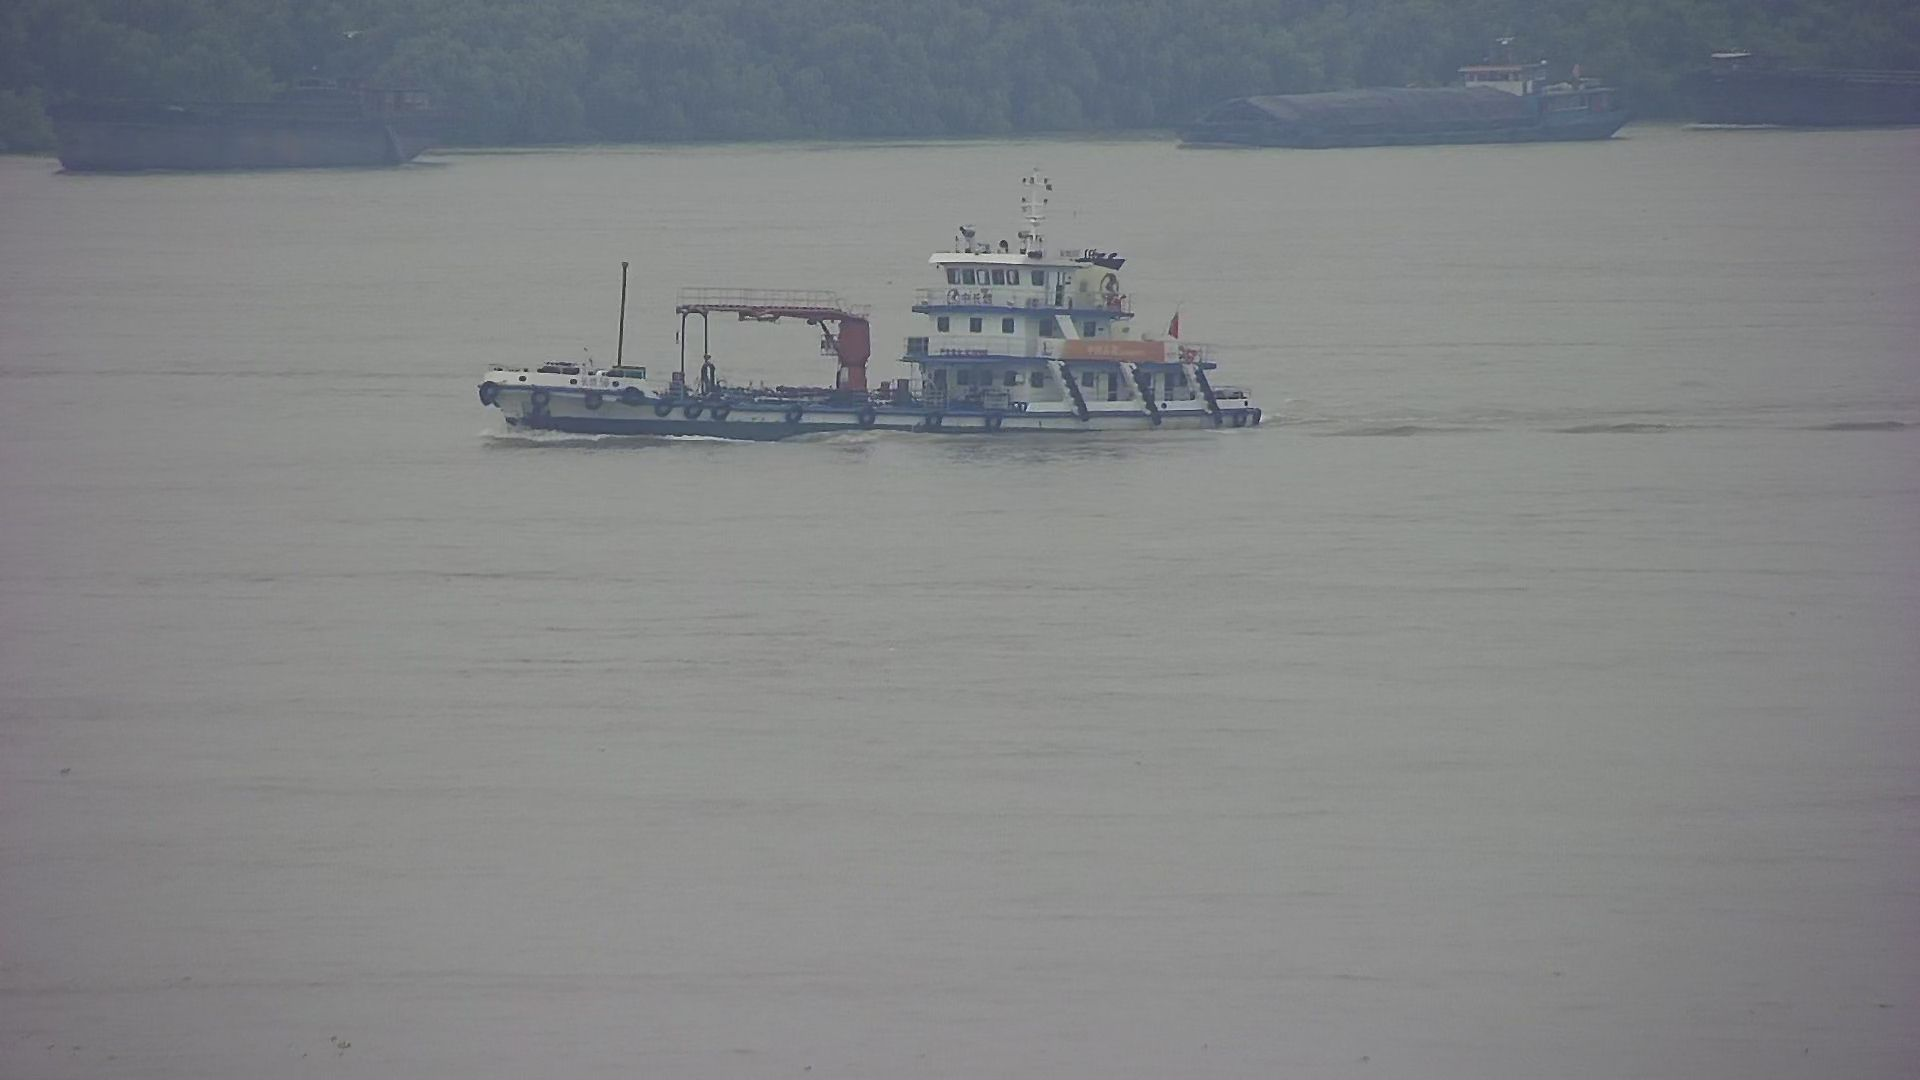ship: (450, 161, 1292, 454), (36, 11, 464, 179), (1171, 20, 1654, 152), (1669, 38, 1920, 142)
